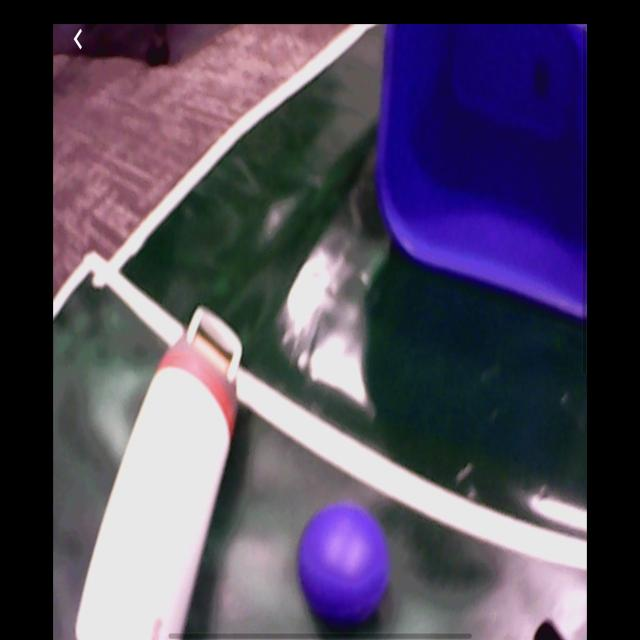ball: (298, 505, 393, 631)
